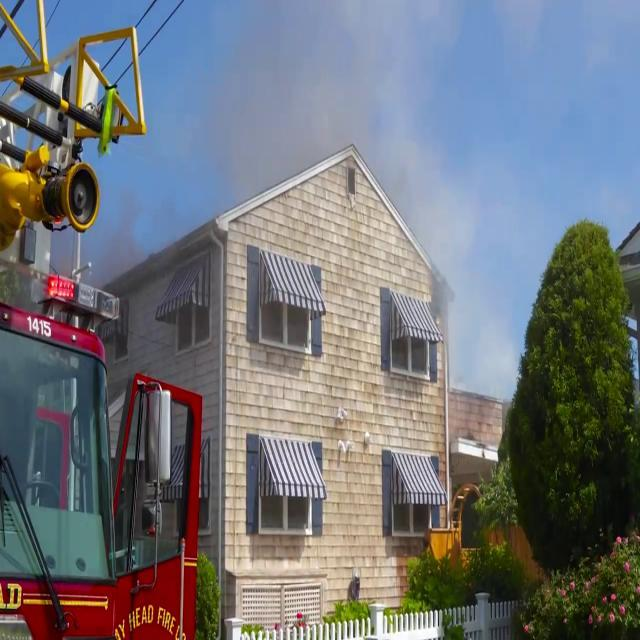Smoke: (185, 0, 518, 222)
